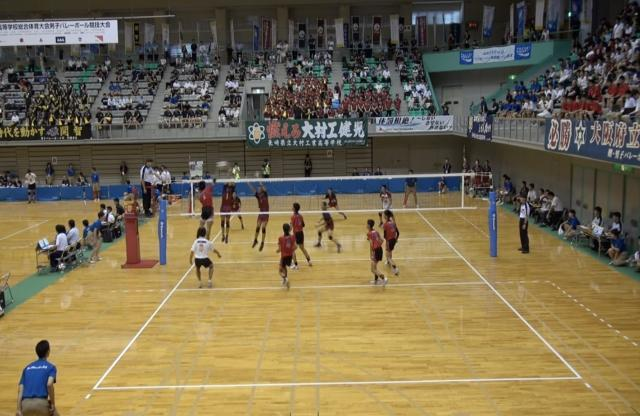spike: (189, 160, 227, 246)
